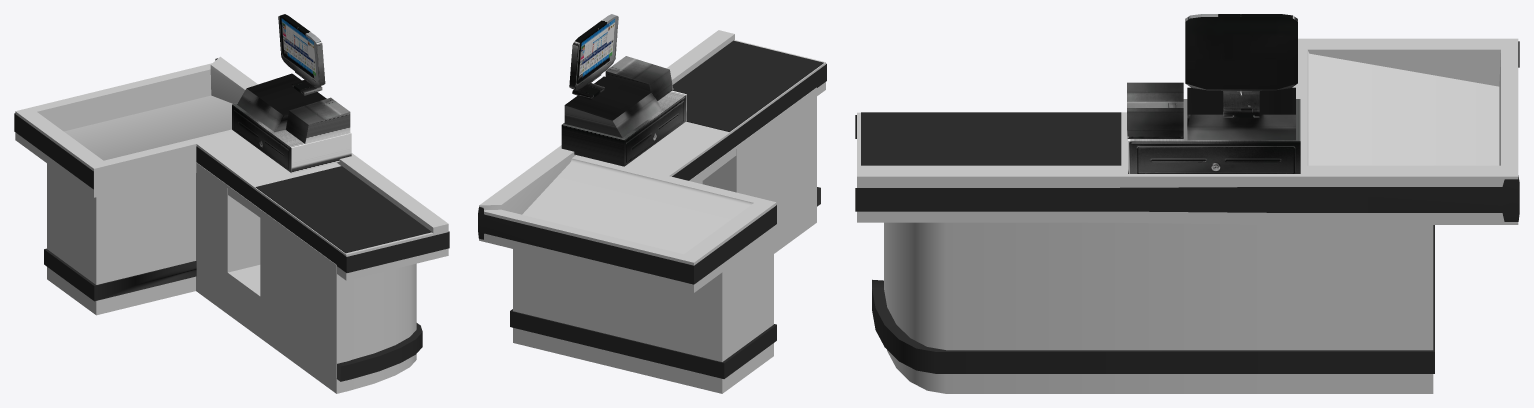
Rendered from CashierCounter.glb.
The picture shows the model from 3 angles, left to right: view 1: azimuth 30°, elevation 25°; view 2: azimuth 150°, elevation 25°; view 3: azimuth 270°, elevation 25°; orthographic projection. The views are drawn at different scales.
Visible parts, largest first — view 1: Cube.3626; view 2: Cube.3626; view 3: Cube.3626.
Boxes of the visible parts, x1,y1,x2,y2 form: Cube.3626: (14, 14, 449, 393); Cube.3626: (478, 14, 826, 393); Cube.3626: (855, 14, 1519, 393).
Size of the model in its own units: 1.26 by 1.49 by 2.43.
Materials: 3 (1 with a texture image).
